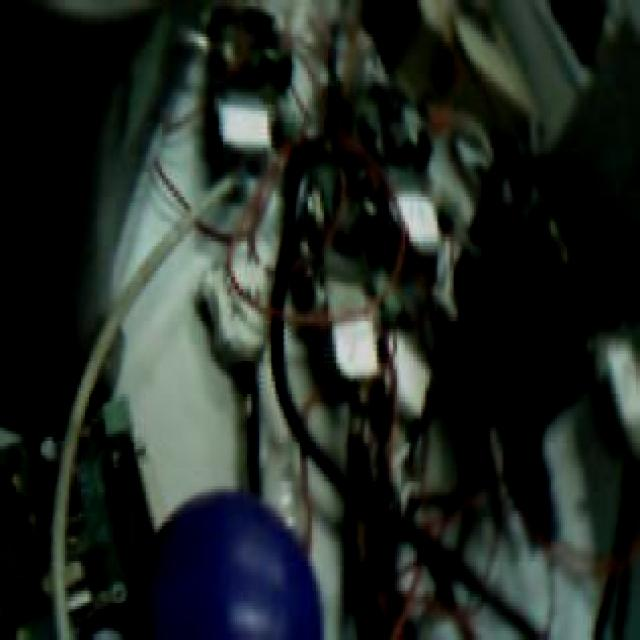BallPurple: (143, 489, 324, 640)
